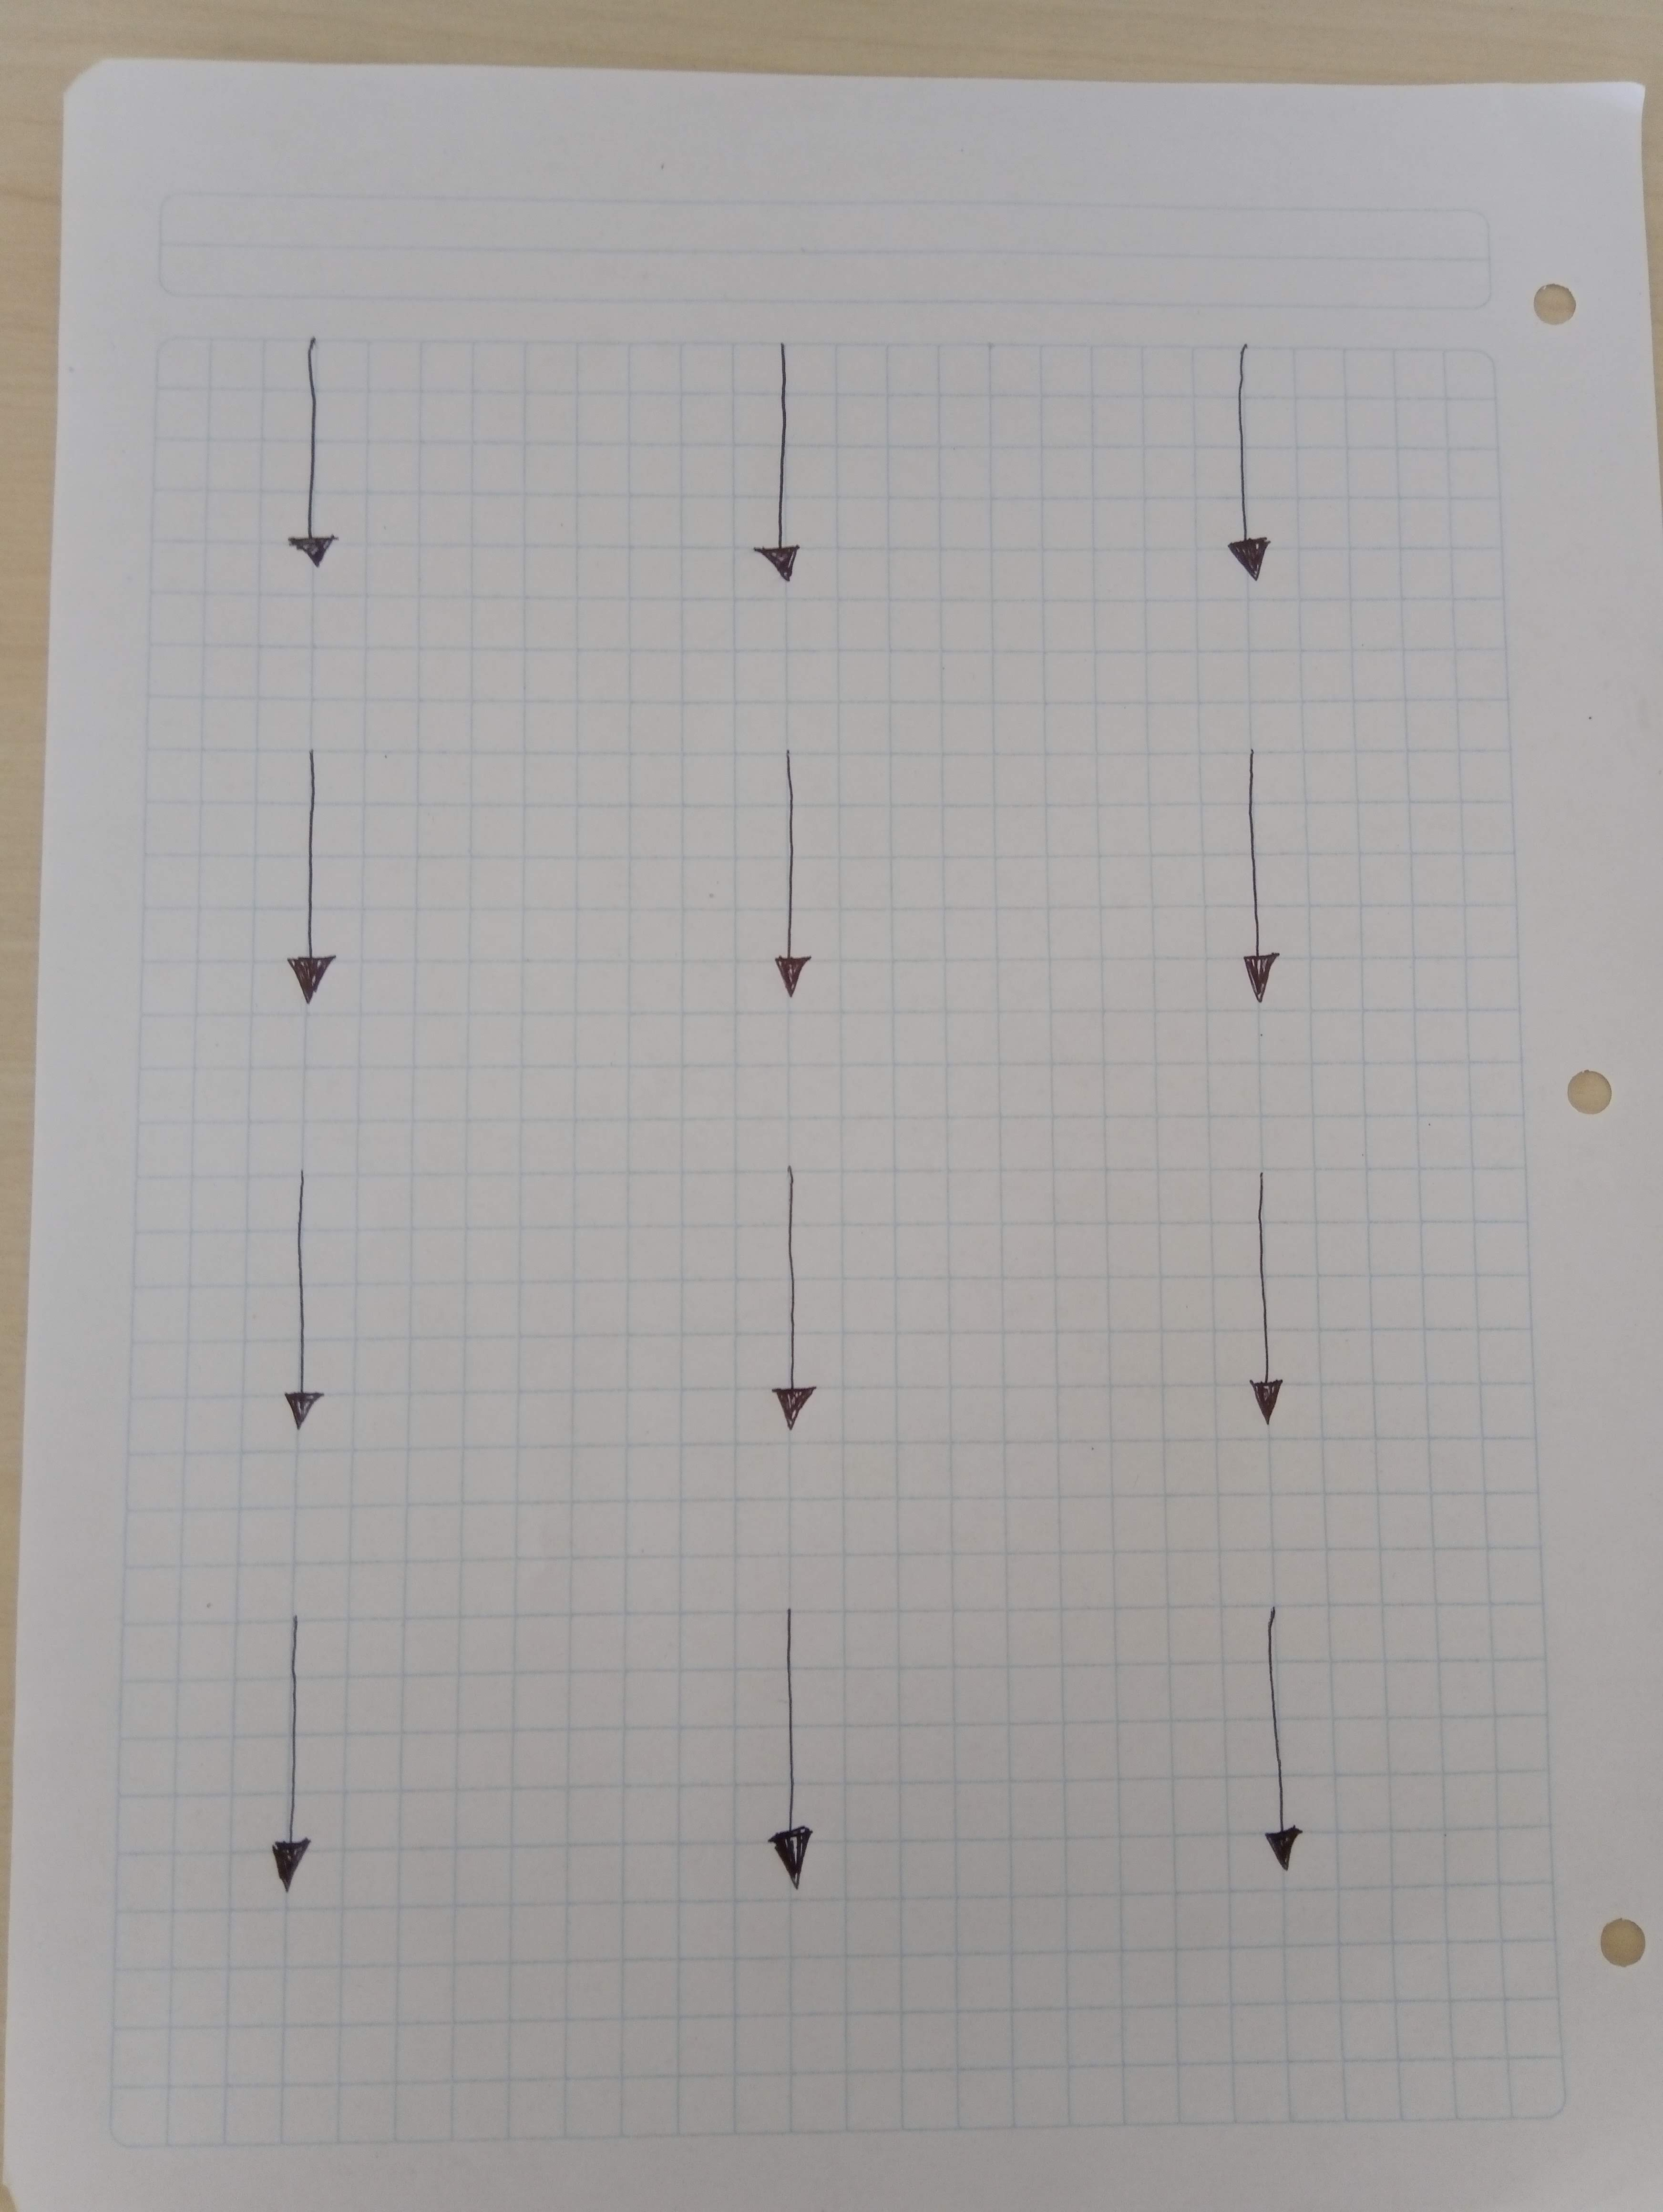arrow_line_down: (748, 1597, 849, 1917), (255, 1178, 348, 1458), (1191, 347, 1293, 592), (1225, 1171, 1312, 1447), (744, 758, 842, 995), (744, 339, 828, 592), (1246, 1594, 1315, 1894), (1216, 751, 1293, 1014), (281, 335, 362, 574), (271, 751, 344, 1004), (765, 1171, 831, 1432), (267, 1631, 328, 1908)
